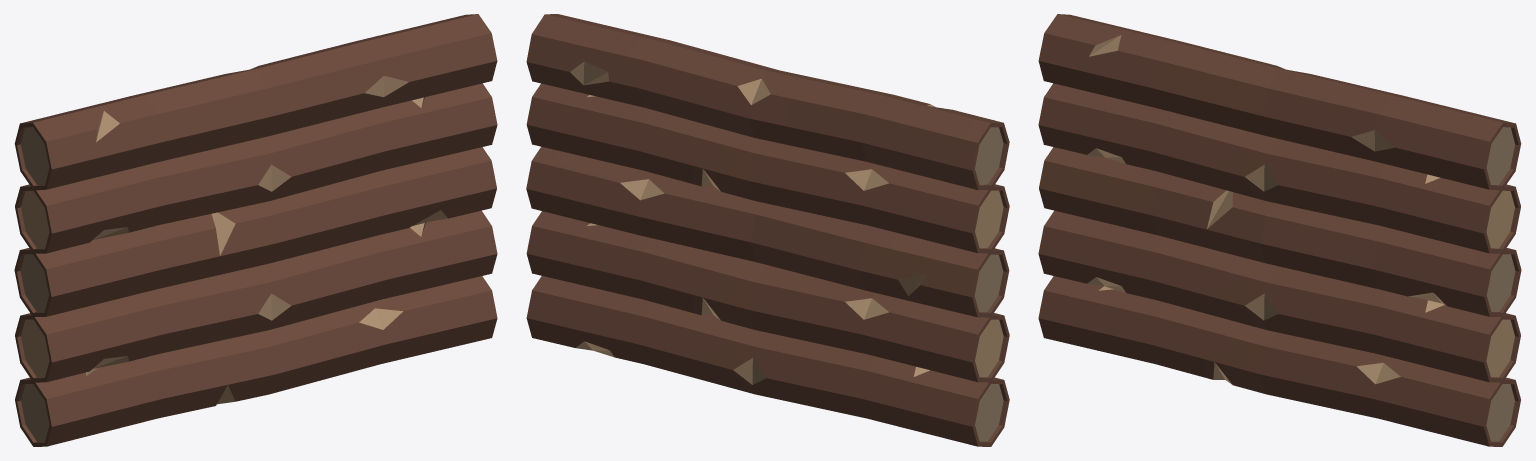
File: Log Wall.fbx
The picture shows the model from 3 angles, left to right: view 1: azimuth 30°, elevation 25°; view 2: azimuth 150°, elevation 25°; view 3: azimuth 330°, elevation 25°; orthographic projection.
Visible parts, largest first — view 1: Log Wall Part 05, Log Wall Part 02, Log Wall Part 01, Log Wall Part 04, Log Wall Part 03; view 2: Log Wall Part 05, Log Wall Part 02, Log Wall Part 01, Log Wall Part 03, Log Wall Part 04; view 3: Log Wall Part 05, Log Wall Part 02, Log Wall Part 01, Log Wall Part 04, Log Wall Part 03.
Boxes of the visible parts, x1,y1,x2,y2 form: Log Wall Part 05: (14,14,497,190); Log Wall Part 02: (15,210,497,382); Log Wall Part 01: (15,276,497,446); Log Wall Part 04: (15,83,497,253); Log Wall Part 03: (14,147,496,316); Log Wall Part 05: (526,14,1009,190); Log Wall Part 02: (526,211,1009,382); Log Wall Part 01: (526,276,1009,446); Log Wall Part 03: (526,146,1009,317); Log Wall Part 04: (526,83,1009,253); Log Wall Part 05: (1038,14,1521,190); Log Wall Part 02: (1038,210,1520,382); Log Wall Part 01: (1038,276,1520,446); Log Wall Part 04: (1038,83,1520,253); Log Wall Part 03: (1039,147,1521,316).
Bounding box in the file's own units: 2.77 × 1.94 × 0.4188.
